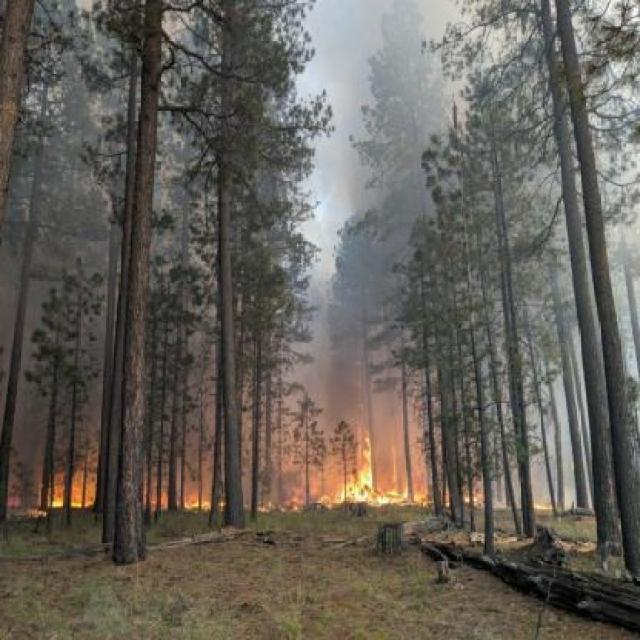Fire: (310, 436, 428, 510), (40, 484, 98, 512), (178, 491, 231, 517)
